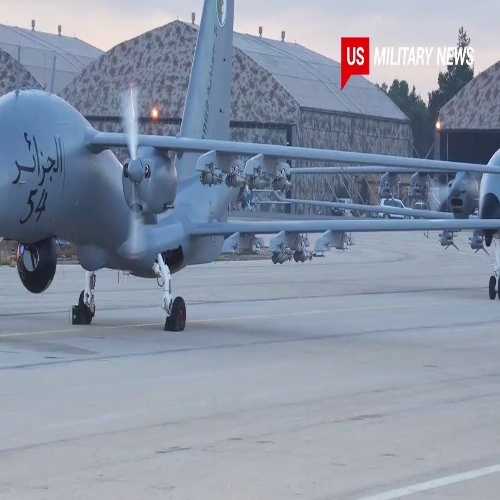uav: (1, 2, 496, 325)
